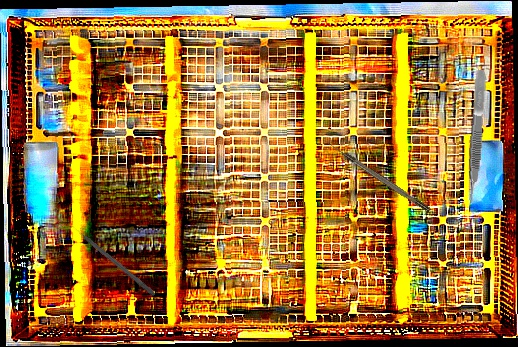Hook Surgical: (326, 140, 432, 214)
Pusher: (68, 221, 157, 297)
Tissue Forceps: (463, 69, 489, 204)
